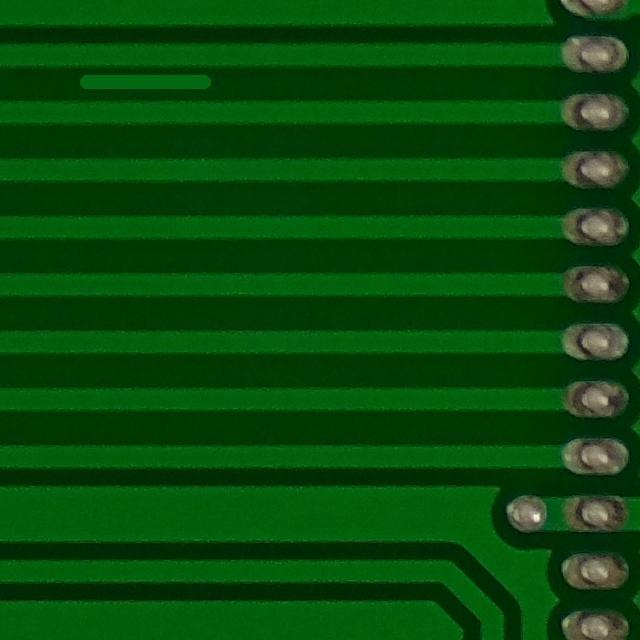spurious_copper: (66, 56, 226, 105)
